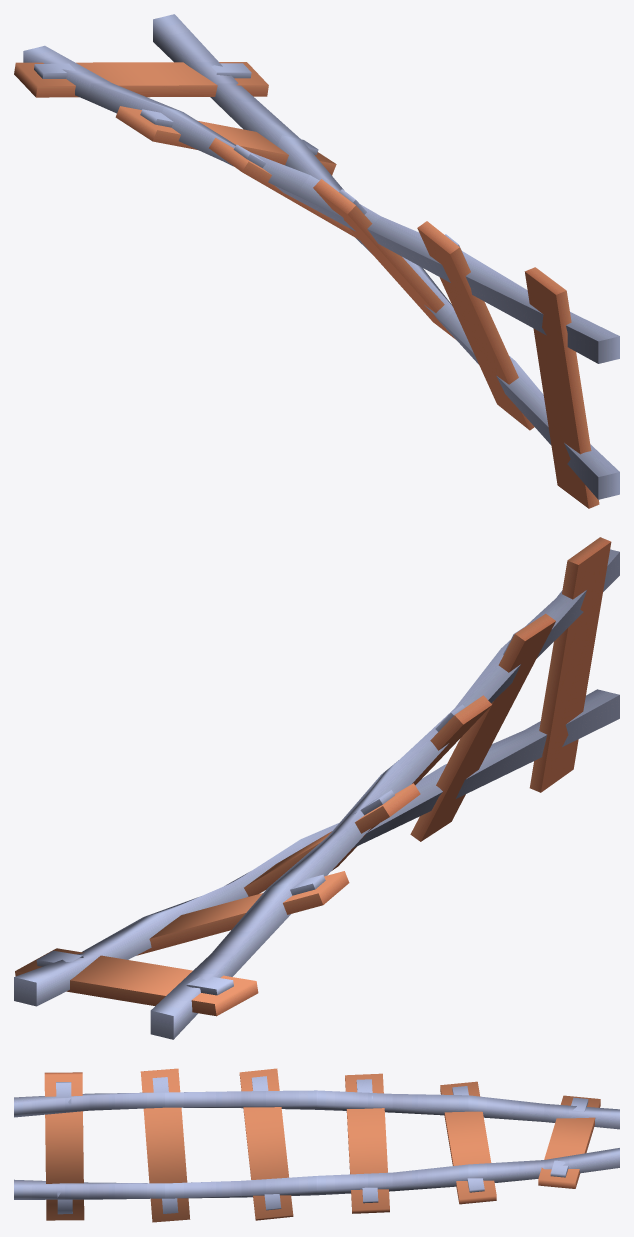
The model's file is railroad-damaged-straight-skew-left-side.glb.
3 views of the same model, one above another, from view 1: azimuth 30°, elevation 25°; view 2: azimuth 150°, elevation 25°; view 3: azimuth 270°, elevation 25° (orthographic). The views are drawn at different scales.
Visible parts, largest first — view 1: railroad-damaged-straight-skew-left-side; view 2: railroad-damaged-straight-skew-left-side; view 3: railroad-damaged-straight-skew-left-side.
Boxes of the visible parts, x1,y1,x2,y2 form: railroad-damaged-straight-skew-left-side: [14, 14, 619, 508]; railroad-damaged-straight-skew-left-side: [14, 537, 619, 1039]; railroad-damaged-straight-skew-left-side: [14, 1068, 619, 1222].
Bounding box in the file's own units: 1.02 × 0.9981 × 4.
Materials: 1 (1 with a texture image).
